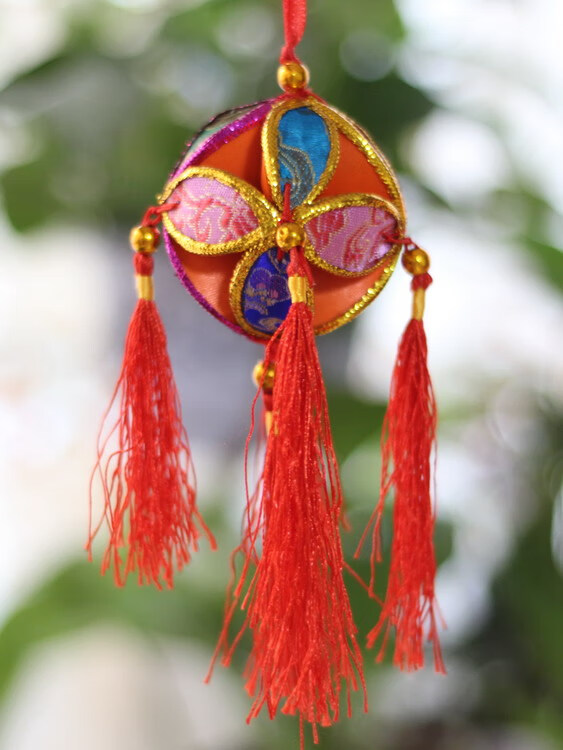xiuqiu: (164, 96, 402, 343)
